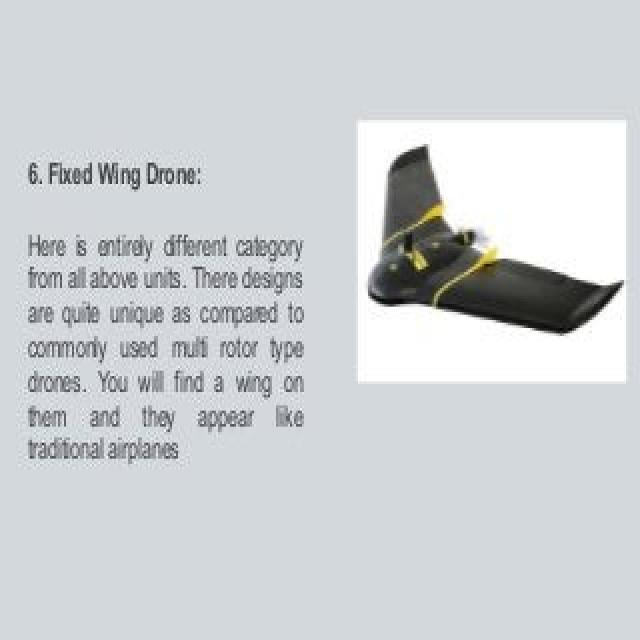iha: (368, 133, 624, 352)
